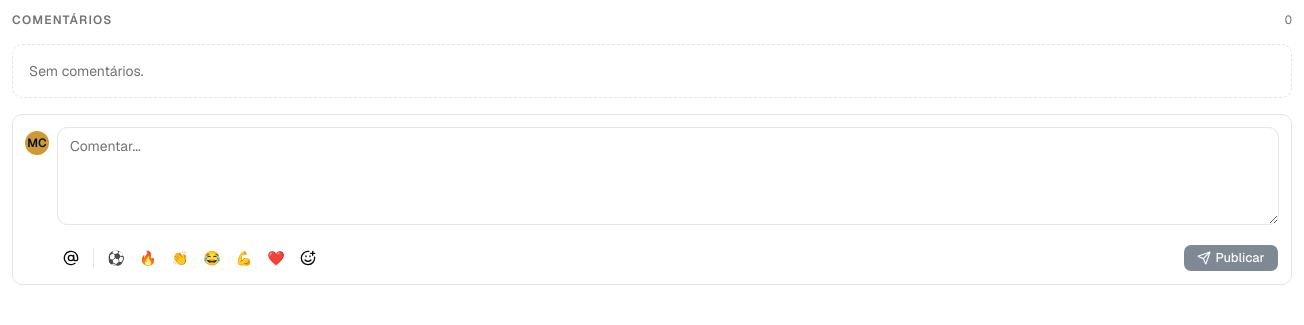
Scenario: MatchComments › submits text content and resolved mention IDs
In the text box named "Comentário": coordinates (668, 176) [57,127,1279,225], type "Boa @João Silva ⚽"
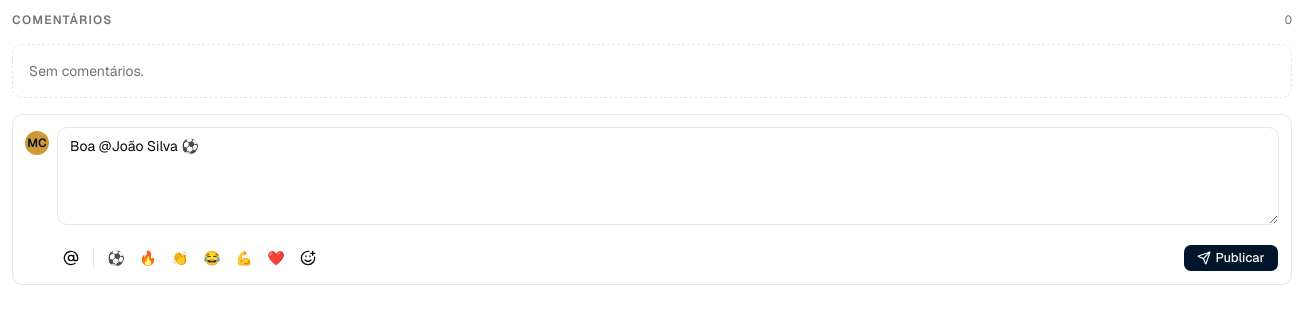
Click the button "Publicar": coordinates (1231, 258) [1183,244,1279,272]
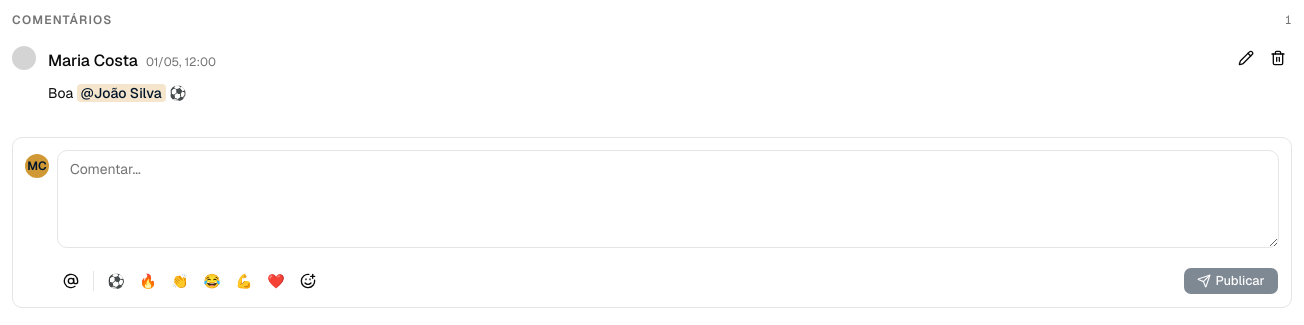
Check: the text "Maria Costa" is shown, box [48,49,138,73]
Check: the text "@João Silva" is shown, box [77,84,166,102]
